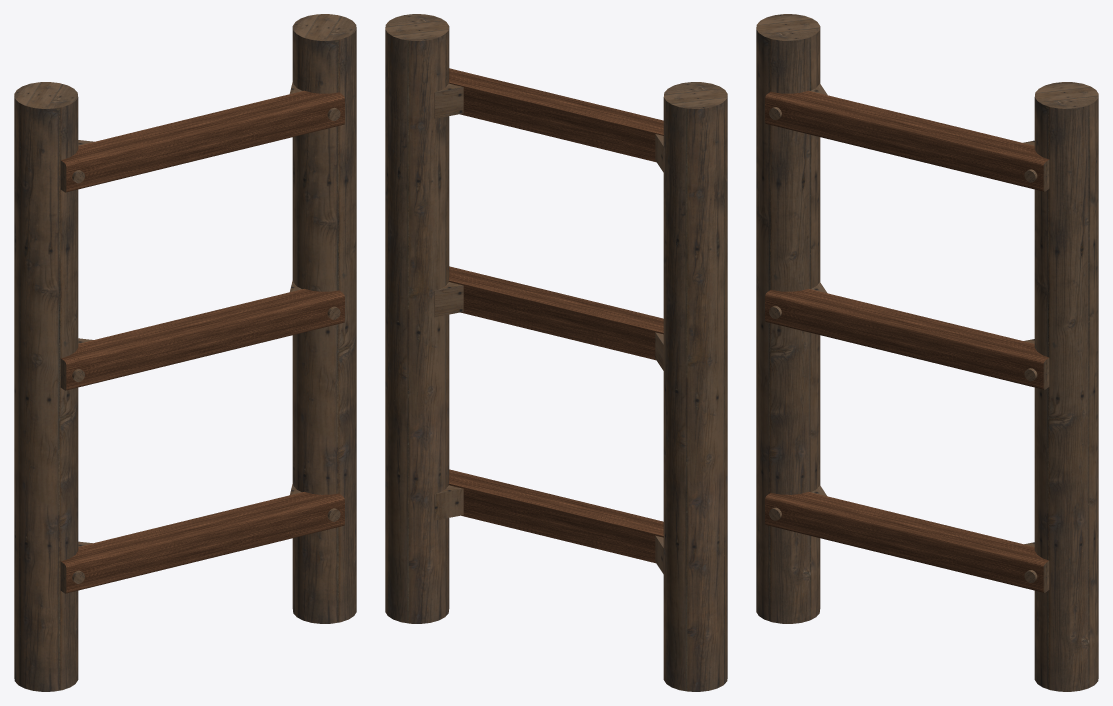
Rendered from ladder.fbx.
The picture shows the model from 3 angles, left to right: view 1: azimuth 30°, elevation 25°; view 2: azimuth 150°, elevation 25°; view 3: azimuth 330°, elevation 25°; orthographic projection.
Visible parts, largest first — view 1: pCylinder10; view 2: pCylinder10; view 3: pCylinder10.
Part boxes in pixels (left/top/right/bottom): pCylinder10: left=14, top=14, right=356, bottom=691; pCylinder10: left=385, top=14, right=727, bottom=691; pCylinder10: left=756, top=14, right=1098, bottom=691.
Size of the model in its own units: 120 by 200 by 24.63.
